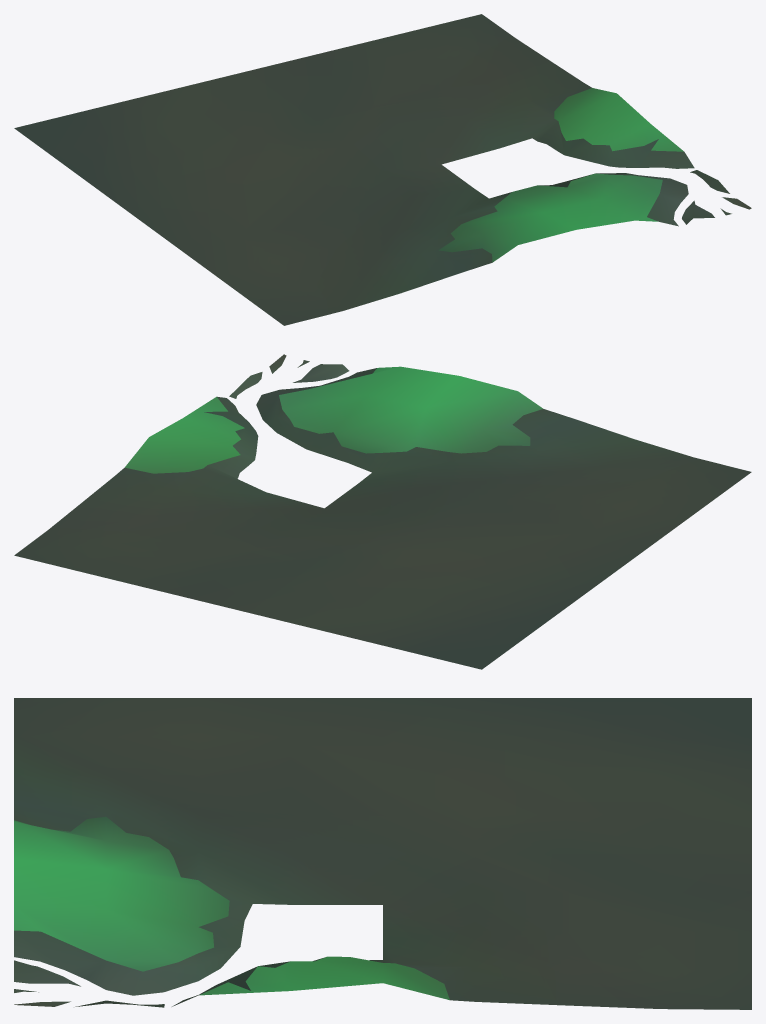
The model's file is LevelA1.fbx.
3 views of the same model, one above another, from view 1: azimuth 30°, elevation 25°; view 2: azimuth 150°, elevation 25°; view 3: azimuth 270°, elevation 25° (orthographic). The views are drawn at different scales.
Visible parts, largest first — view 1: GroundA1; view 2: GroundA1; view 3: GroundA1.
Part boxes in pixels (x1=…): GroundA1: x1=14, y1=14, x2=751, y2=325; GroundA1: x1=14, y1=354, x2=751, y2=669; GroundA1: x1=14, y1=698, x2=751, y2=1009.
Size of the model in its own units: 9057 by 621 by 9057.
